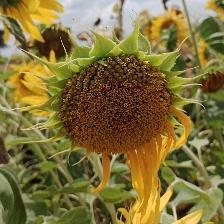sunflower: (20, 20, 211, 177)
